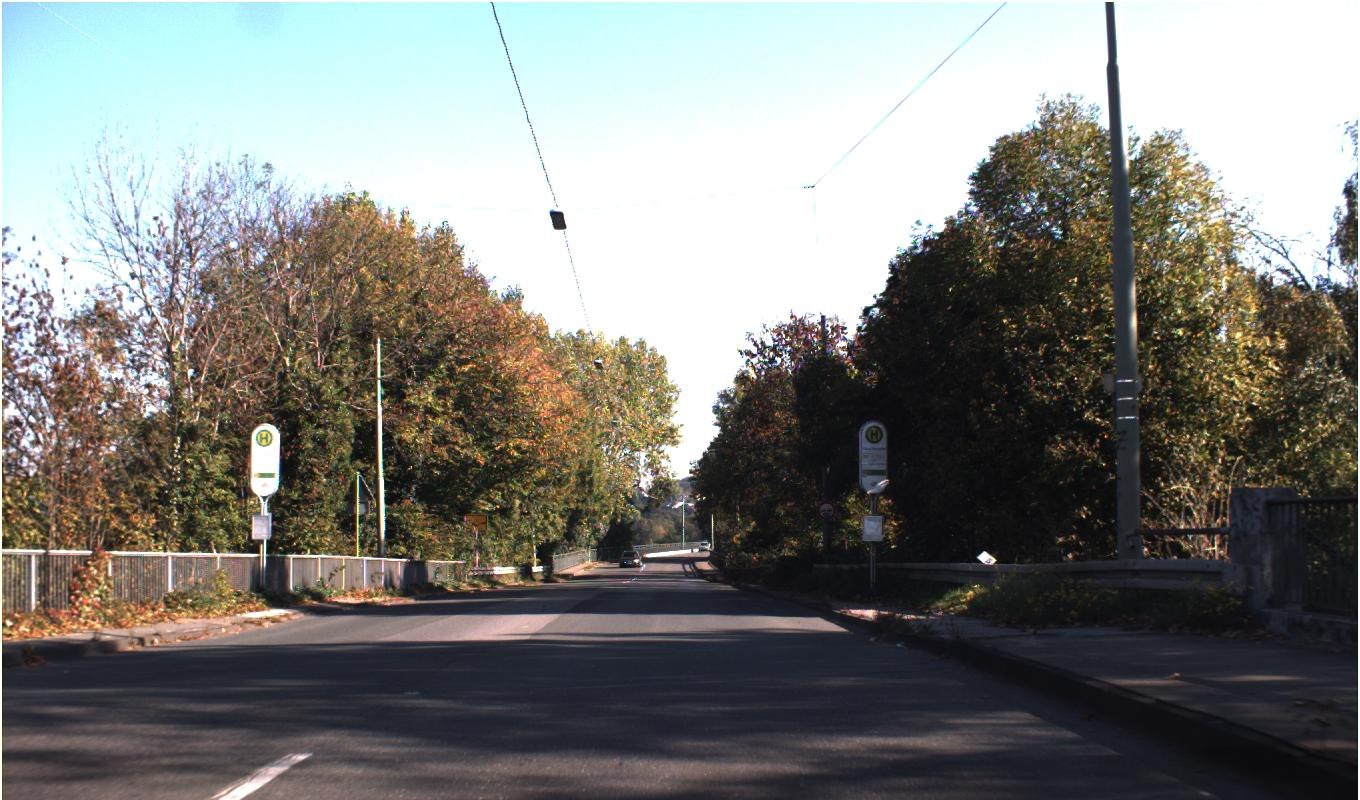prohibitory: (815, 499, 837, 521)
